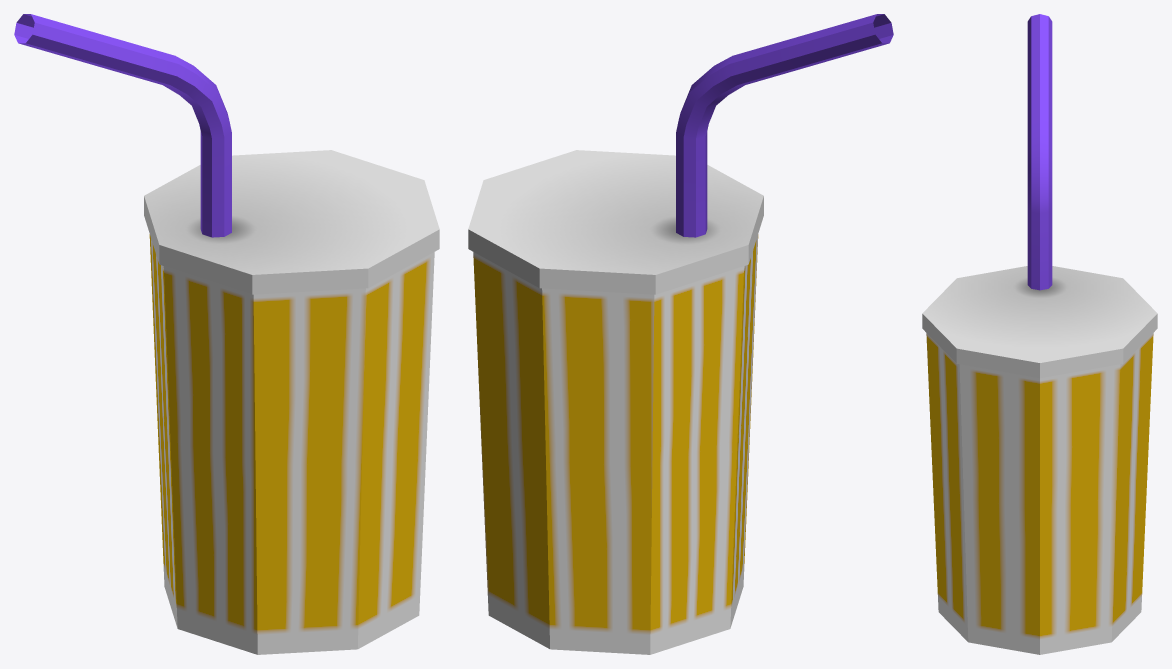
File: JuiceCupFinishedProductD.fbx
3 views of the same model, side by side, from view 1: azimuth 30°, elevation 25°; view 2: azimuth 150°, elevation 25°; view 3: azimuth 270°, elevation 25° (orthographic). The views are drawn at different scales.
Visible parts, largest first — view 1: JuiceCupFinishedProductD; view 2: JuiceCupFinishedProductD; view 3: JuiceCupFinishedProductD.
Boxes of the visible parts, x1=… form: JuiceCupFinishedProductD: x1=14, y1=14, x2=439, y2=654; JuiceCupFinishedProductD: x1=468, y1=14, x2=893, y2=654; JuiceCupFinishedProductD: x1=922, y1=14, x2=1157, y2=654.
Size of the model in its own units: 161 by 247 by 105.
